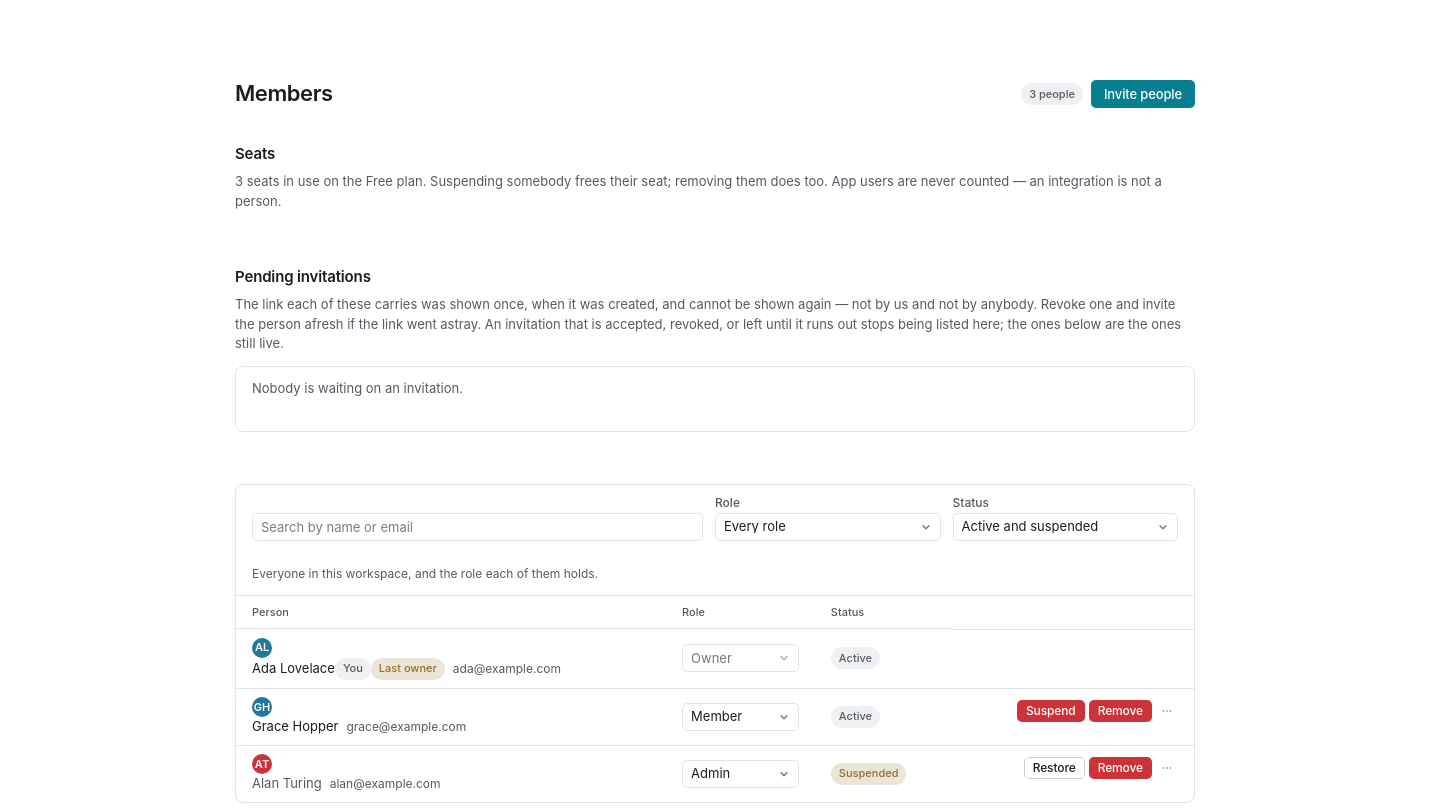
it: the member row menu › asks before it removes somebody, and sends nothing until it is answered
Step 1. Click the button named "Options for Grace Hopper" → (1167, 710), box [1156,700,1178,722]
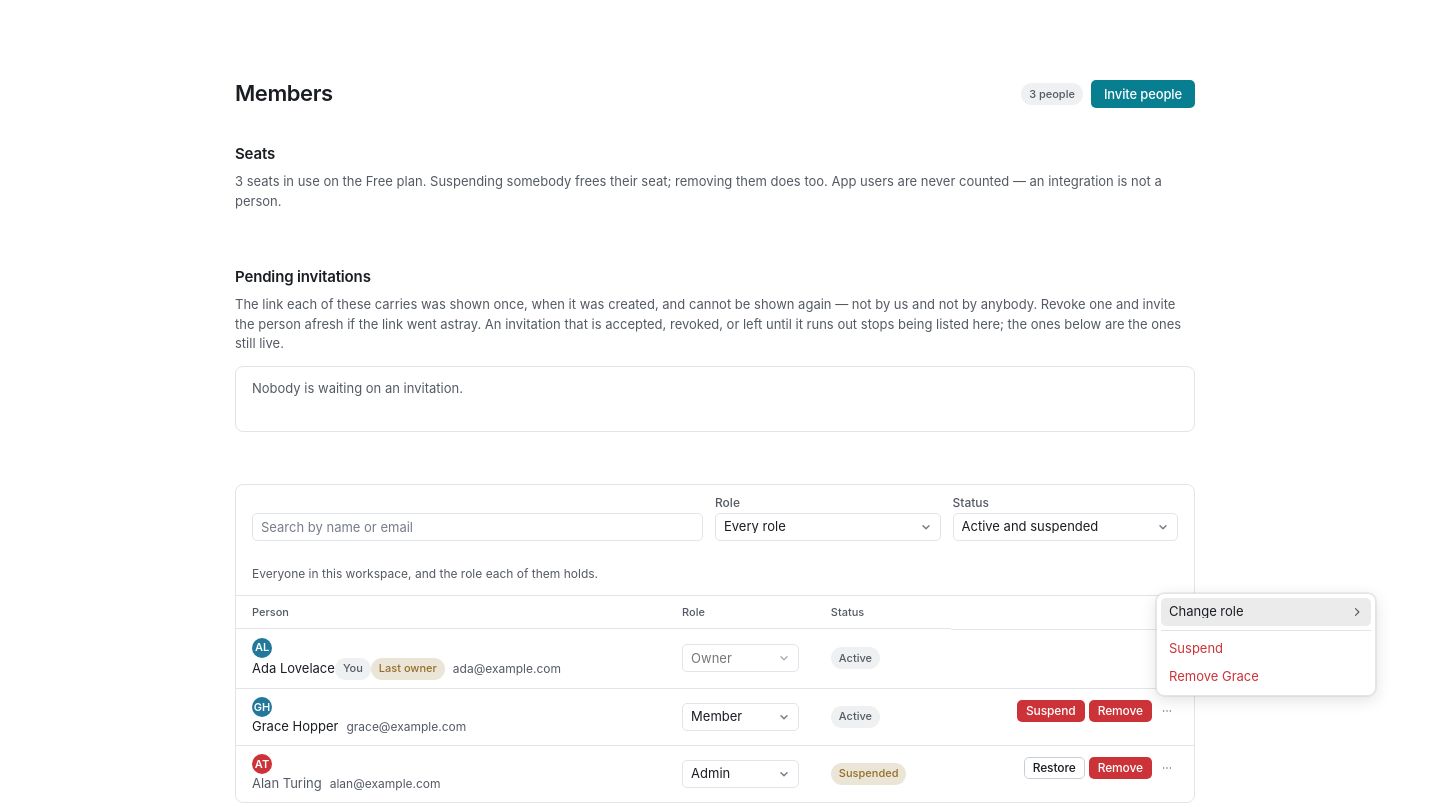
Step 2. Click the menu item "Remove Grace" → (1214, 676), box [1169,668,1259,684]
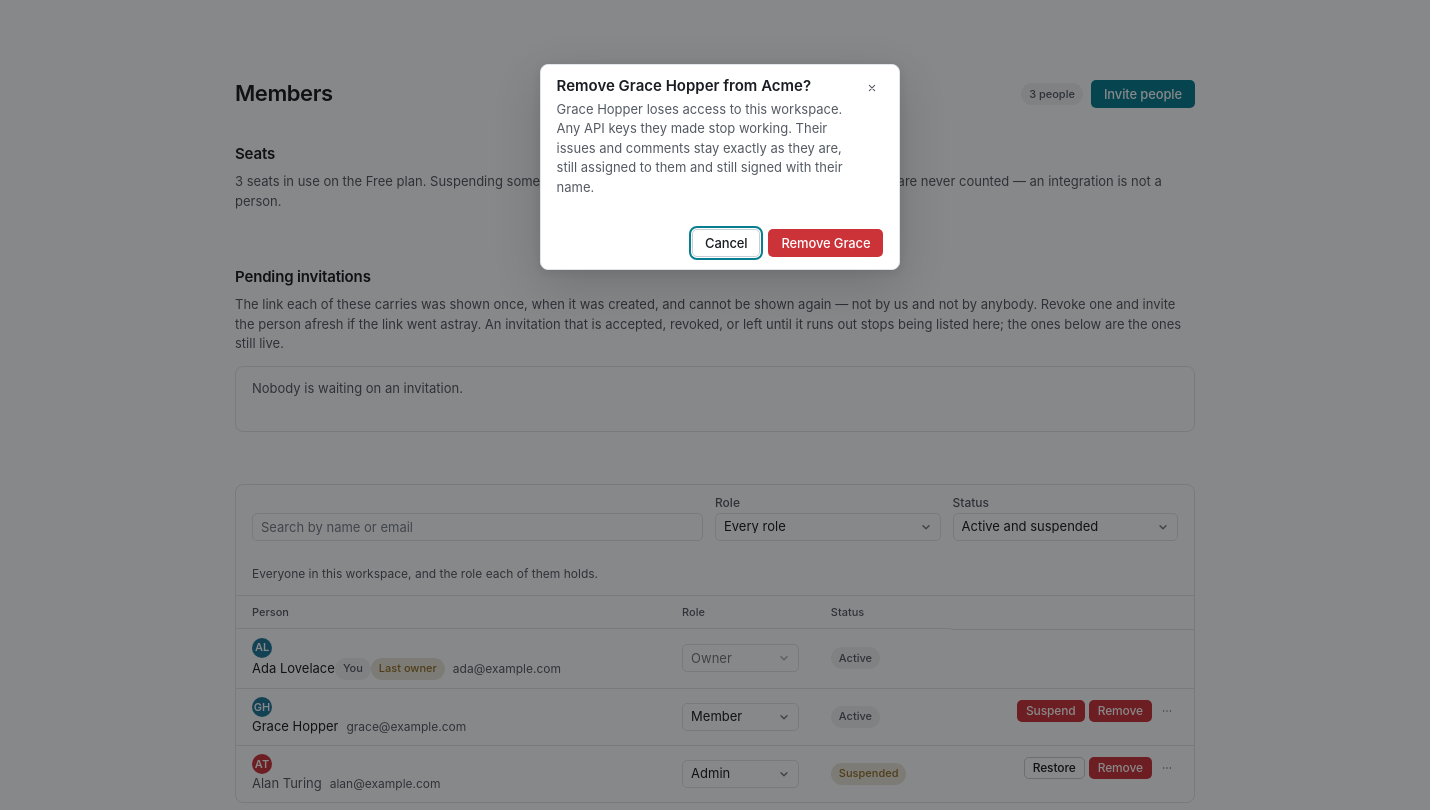
Result: the dialog shows "Remove Grace Hopper from Acme?" at [557,76,811,95]
